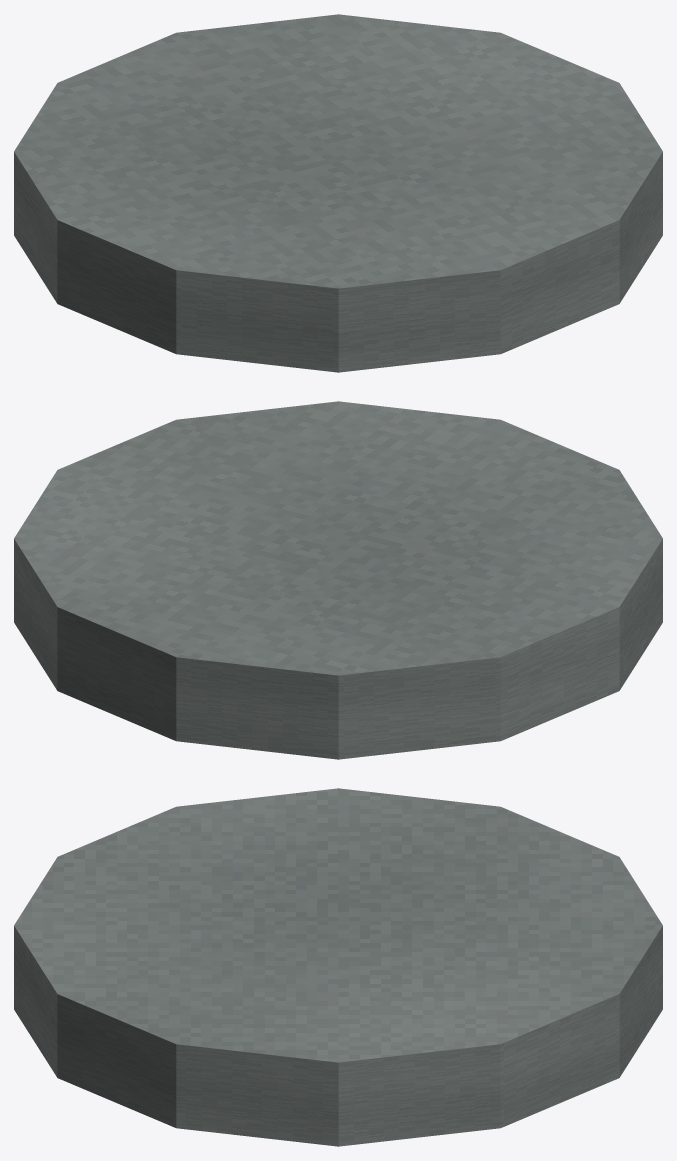
Rendered from moeda.glb.
3 views of the same model, one above another, from view 1: azimuth 30°, elevation 25°; view 2: azimuth 150°, elevation 25°; view 3: azimuth 270°, elevation 25° (orthographic).
Parts seen in each view (by area): view 1: moeda_mesh; view 2: moeda_mesh; view 3: moeda_mesh.
Part boxes in pixels (bbox=[...]): moeda_mesh: bbox=[14, 14, 662, 372]; moeda_mesh: bbox=[14, 401, 662, 759]; moeda_mesh: bbox=[14, 788, 662, 1146].
Size of the model in its own units: 0.14 by 0.02 by 0.14.
1 material, 1 textured.
